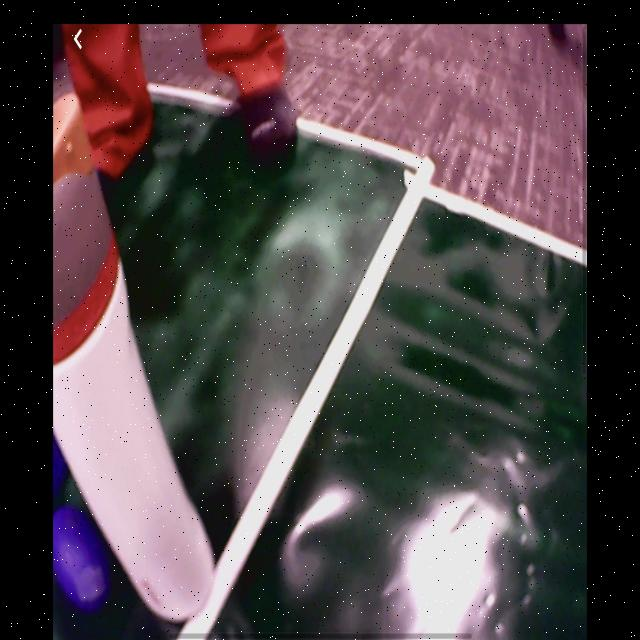ball: (55, 508, 112, 611)
